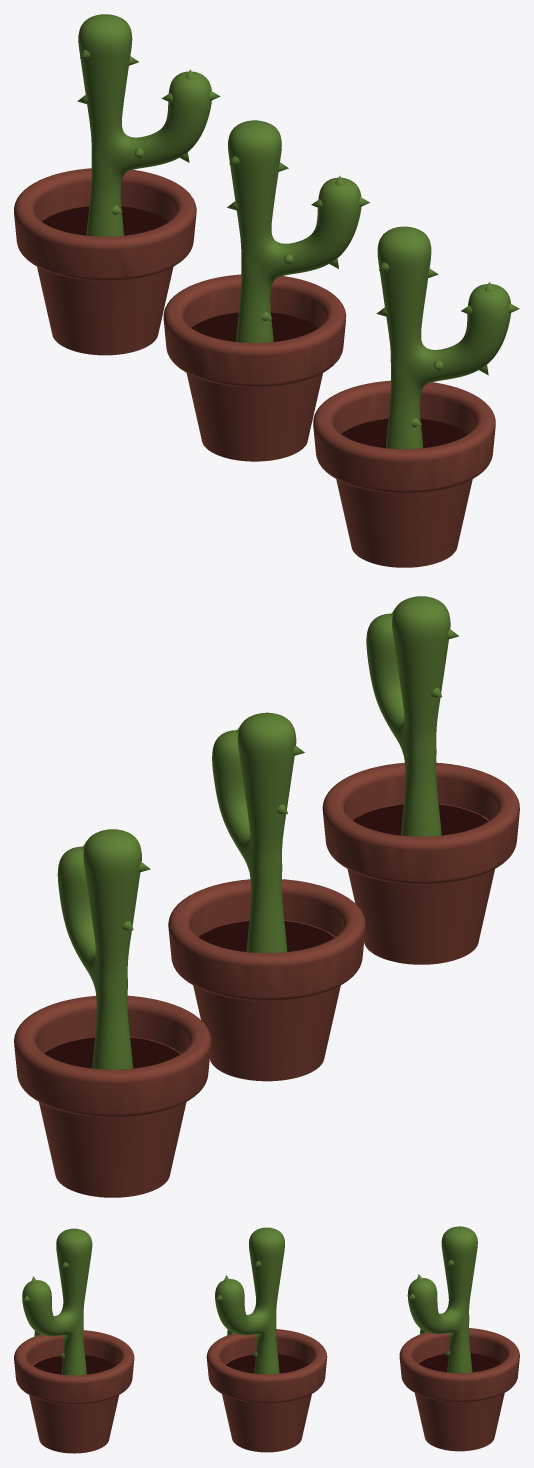
File: Room3-Cactus.glb
The picture shows the model from 3 angles, top to bottom: view 1: azimuth 30°, elevation 25°; view 2: azimuth 150°, elevation 25°; view 3: azimuth 270°, elevation 25°; orthographic projection. The views are drawn at different scales.
Parts seen in each view (by area): view 1: Dirt4; view 2: Dirt4; view 3: Dirt4.
Boxes of the visible parts, x1=… form: Dirt4: x1=14, y1=14, x2=519, y2=567; Dirt4: x1=14, y1=596, x2=519, y2=1197; Dirt4: x1=14, y1=1226, x2=519, y2=1453.
Size of the model in its own units: 1.57 by 2.87 by 6.34.
